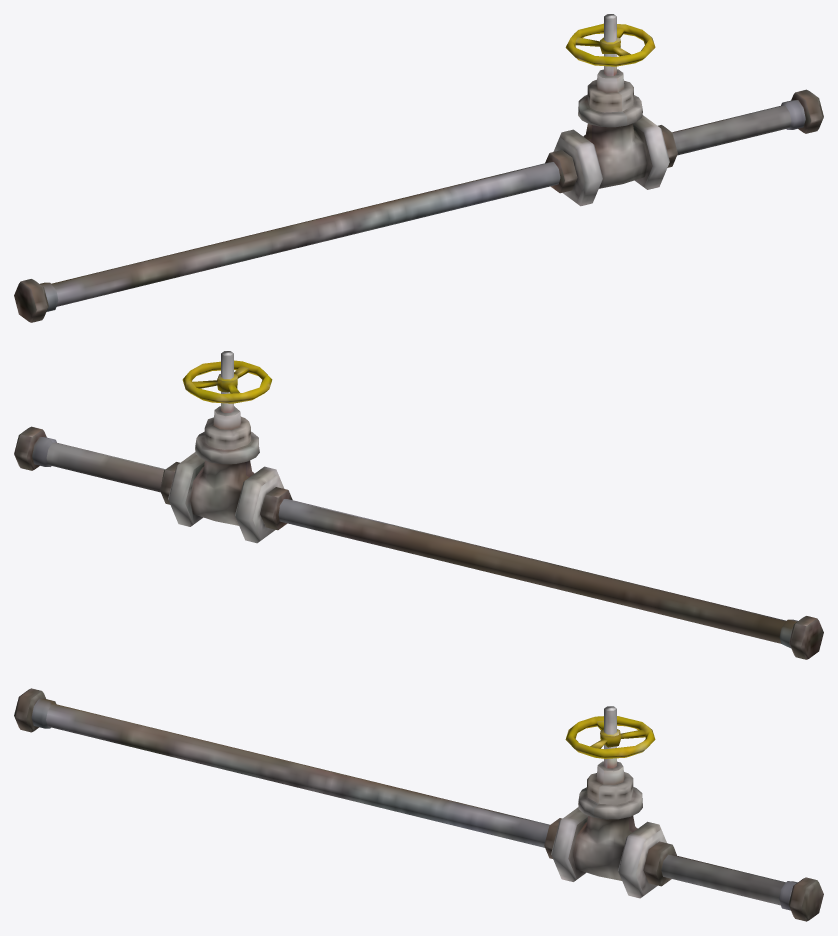
File: pipe_b_150_b.glb
3 renders of one model, top to bottom at view 1: azimuth 30°, elevation 25°; view 2: azimuth 150°, elevation 25°; view 3: azimuth 330°, elevation 25°, orthographic.
Parts seen in each view (by area): view 1: pipe_b_150_b; view 2: pipe_b_150_b; view 3: pipe_b_150_b.
Part boxes in pixels (bbox=[...]): pipe_b_150_b: bbox=[14, 14, 823, 322]; pipe_b_150_b: bbox=[14, 351, 823, 659]; pipe_b_150_b: bbox=[14, 688, 823, 921].
Bounding box in the file's own units: 1.5 × 0.3144 × 0.1429.
Materials: 1 (1 with a texture image).
